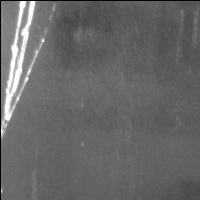scratches: (1, 1, 44, 139)
